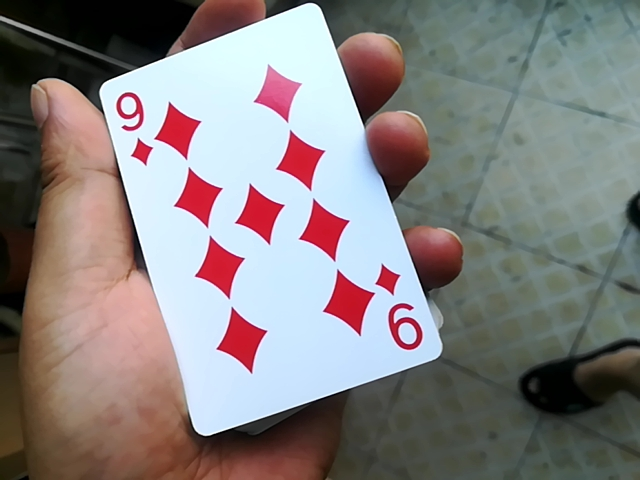fk 9: (81, 10, 422, 441)
